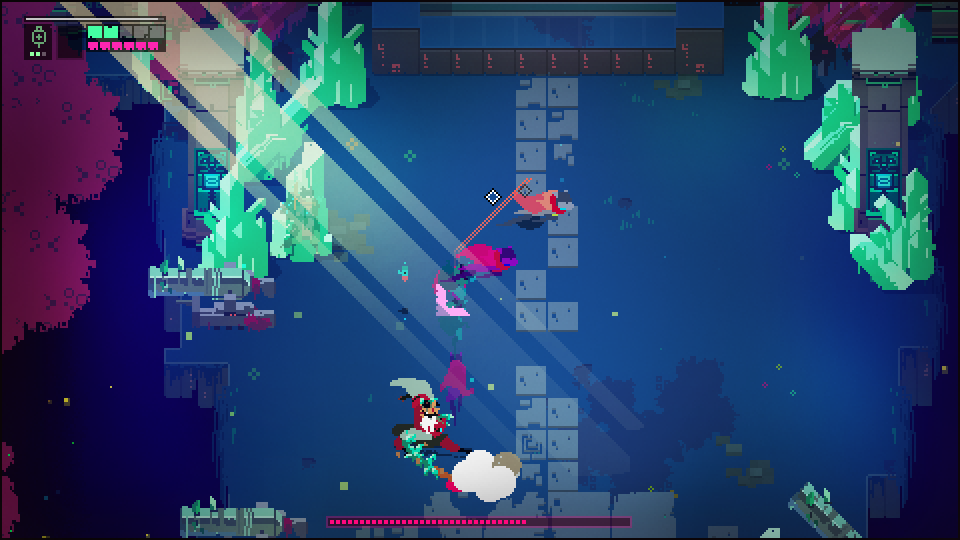hanged_man: (379, 372, 482, 490)
player: (509, 187, 570, 228)
